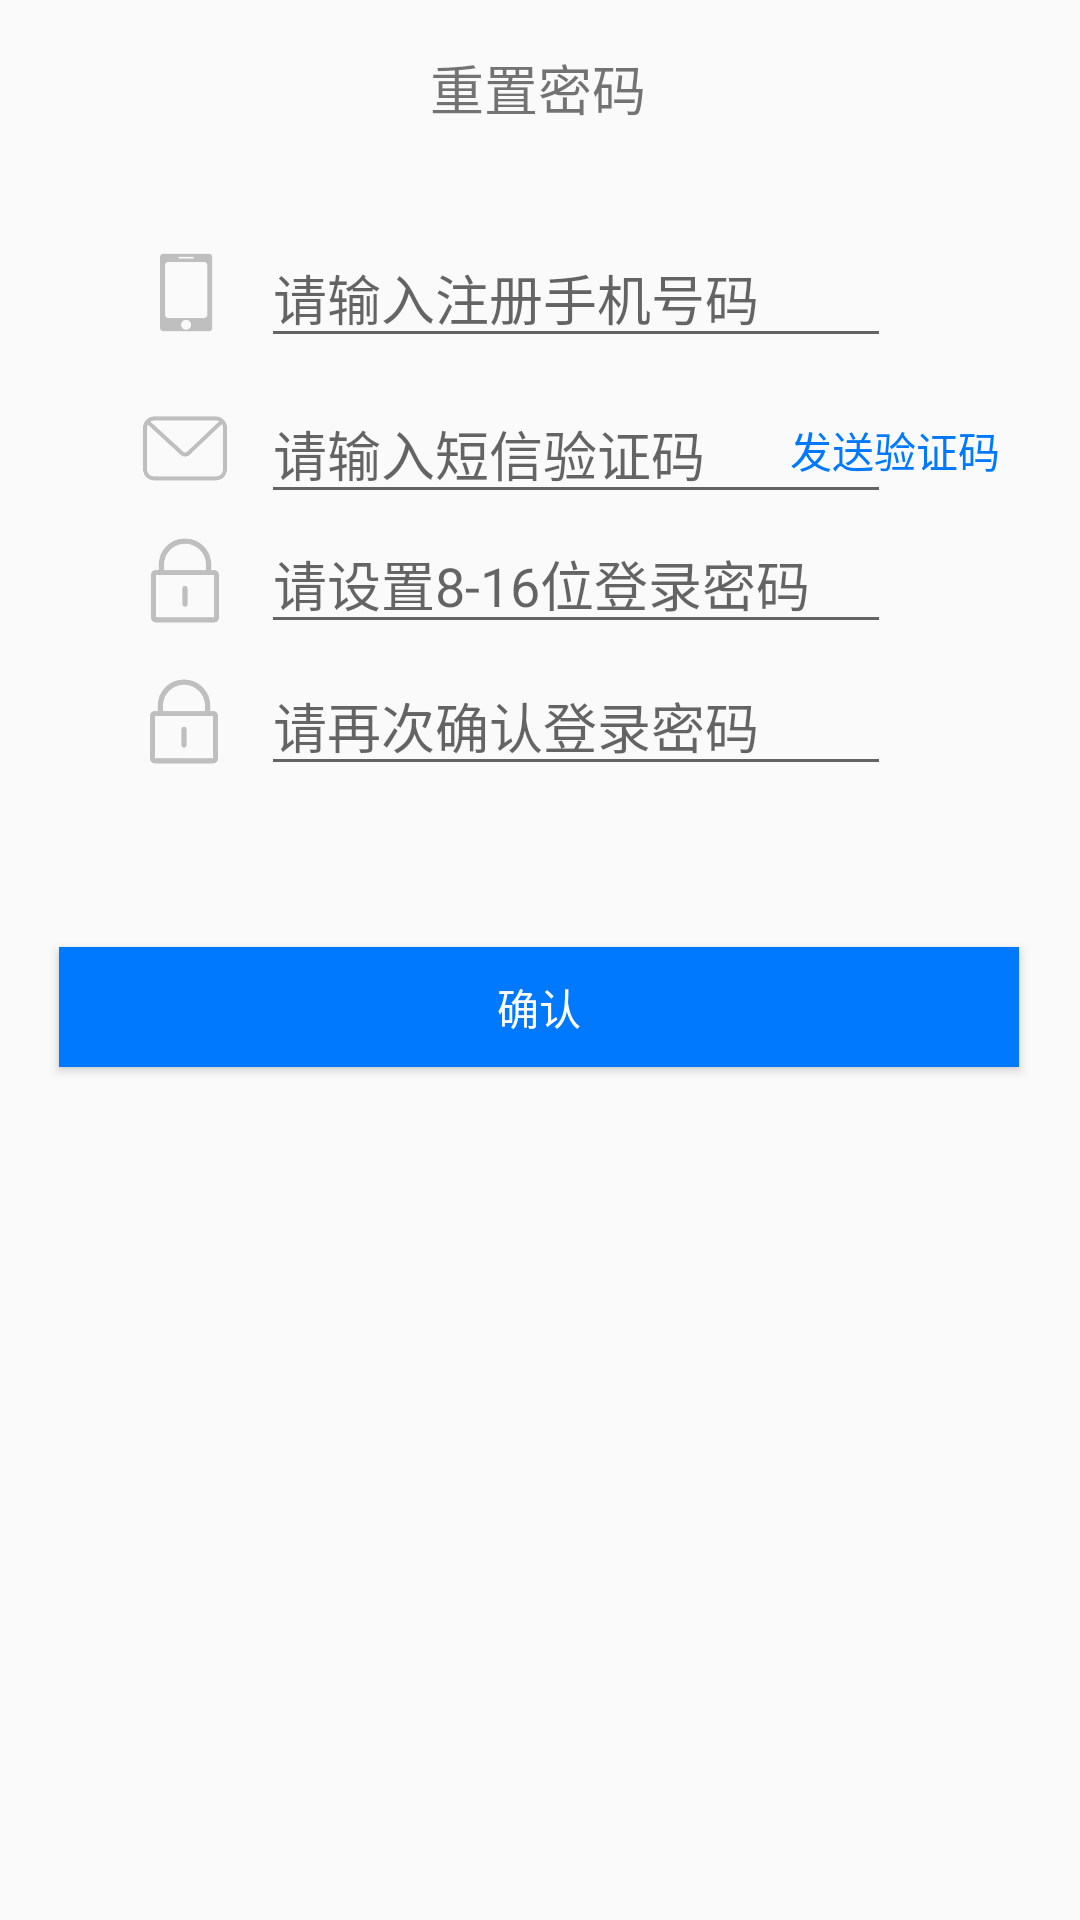

Named icons in this screenshot (1080x1920) and their centers, point (x, y):
message: point (185, 448)
passwage: point (185, 580), point (184, 721)
phone: point (186, 292)
